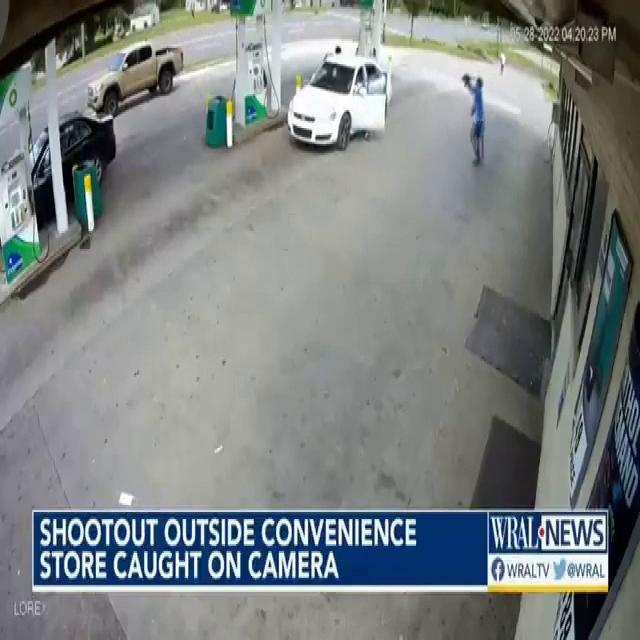penembakan: (459, 66, 495, 176)
